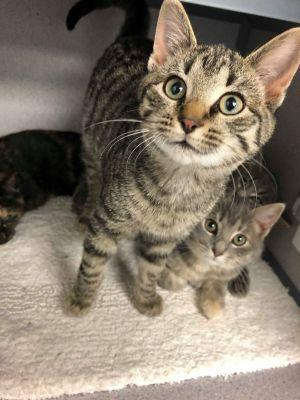bengal: (122, 1, 300, 174)
